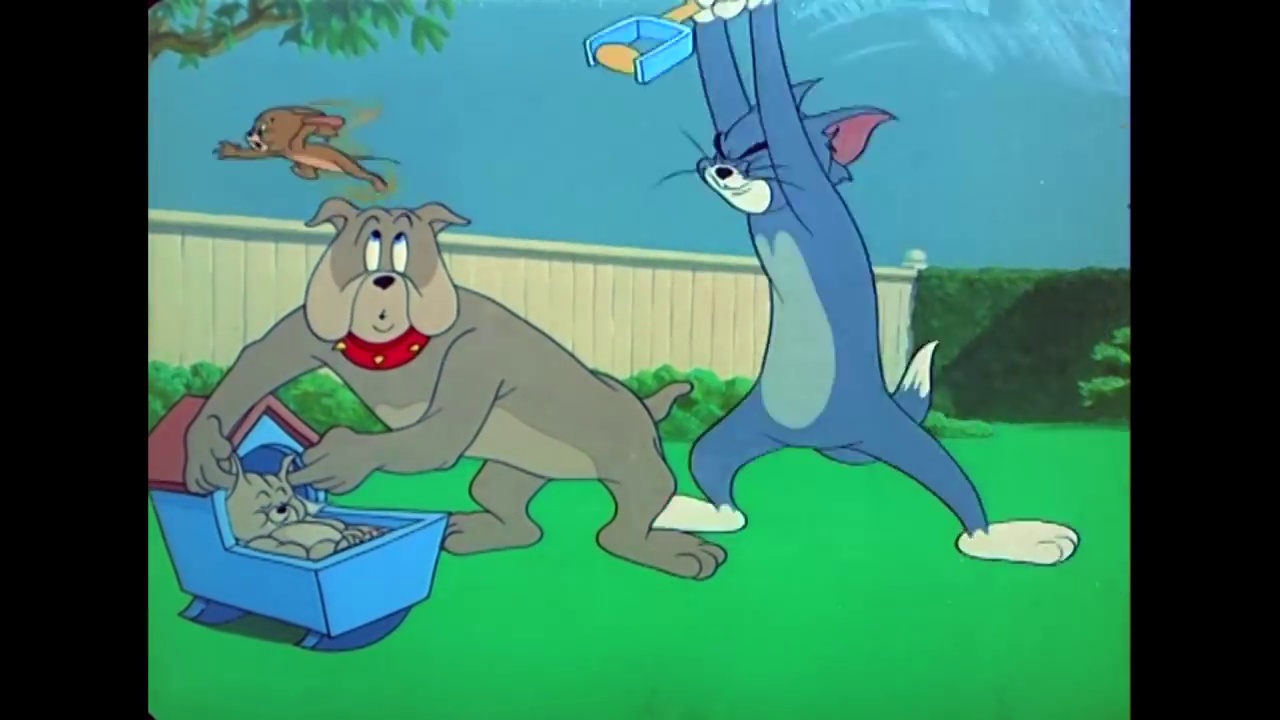spike: (302, 196, 475, 379)
